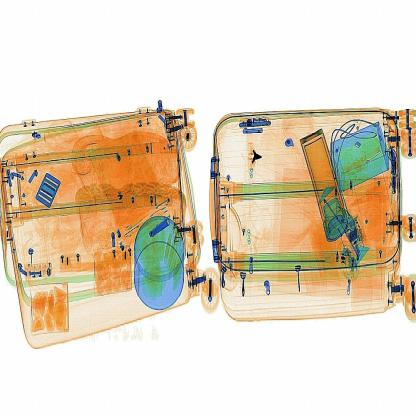gun: (242, 134, 272, 176)
